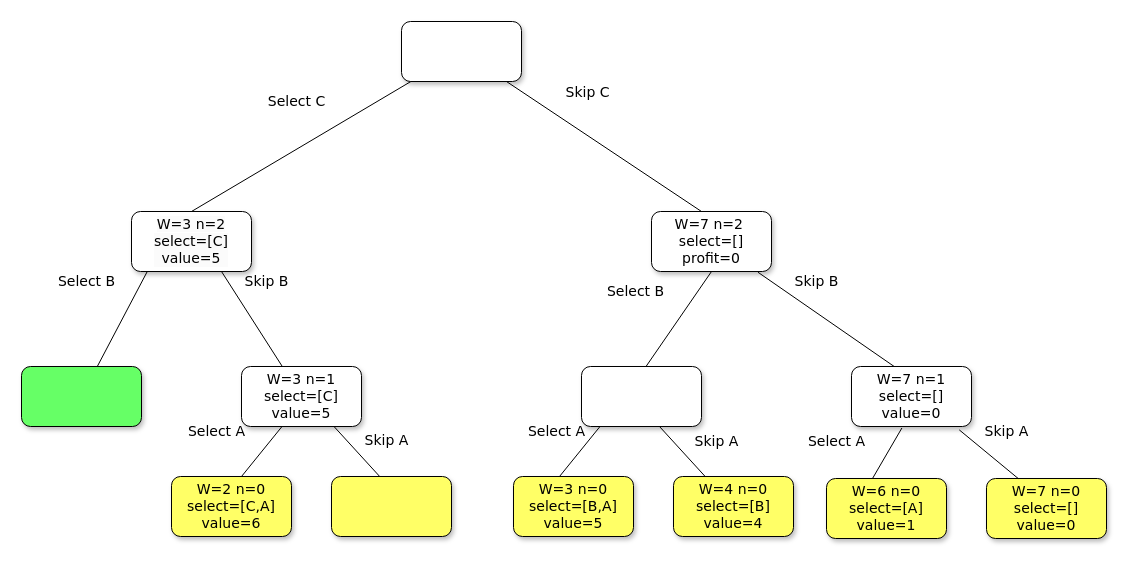
This 1130x563 diagram has some shape labels left out. The shapes that lost their labels are listed below. From the top down, each one's centre as x and y in pixels, then its label:
At (462,52): "W=7 n=3 select=[] value=0".
At (82,398): "W=0 n=1 select=[C,B] value=9".
At (642,398): "W=4 n=1 select=[B] value=4".
At (392,508): "W=3 n=0 select=[C] value=5".
